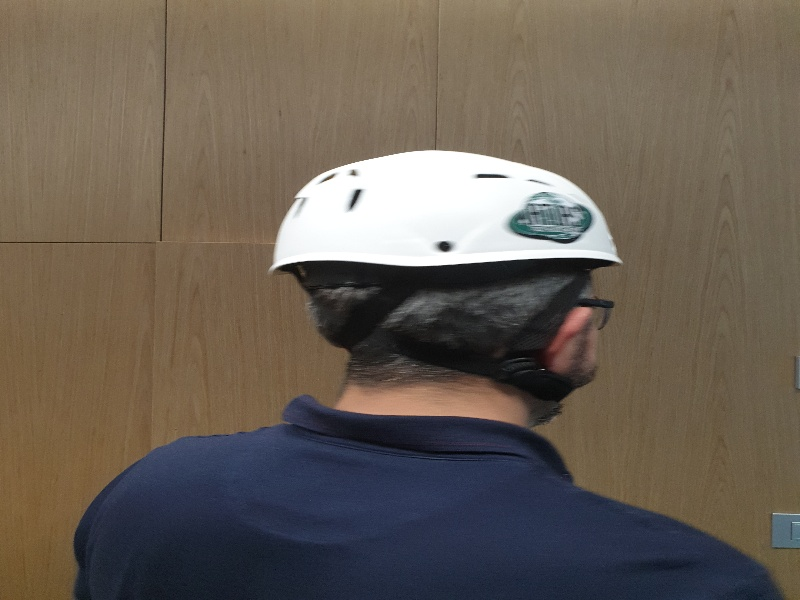Baret: (263, 149, 624, 268)
